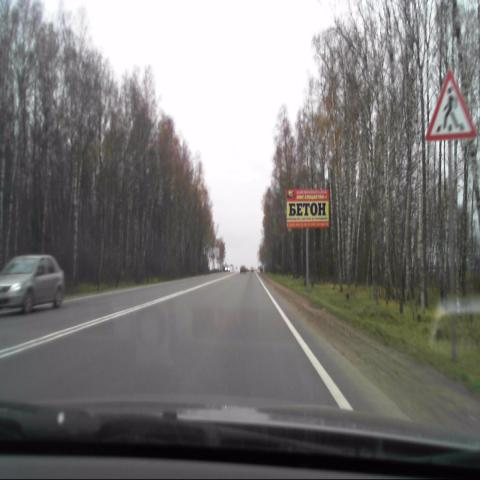1_22: (423, 65, 475, 141)
